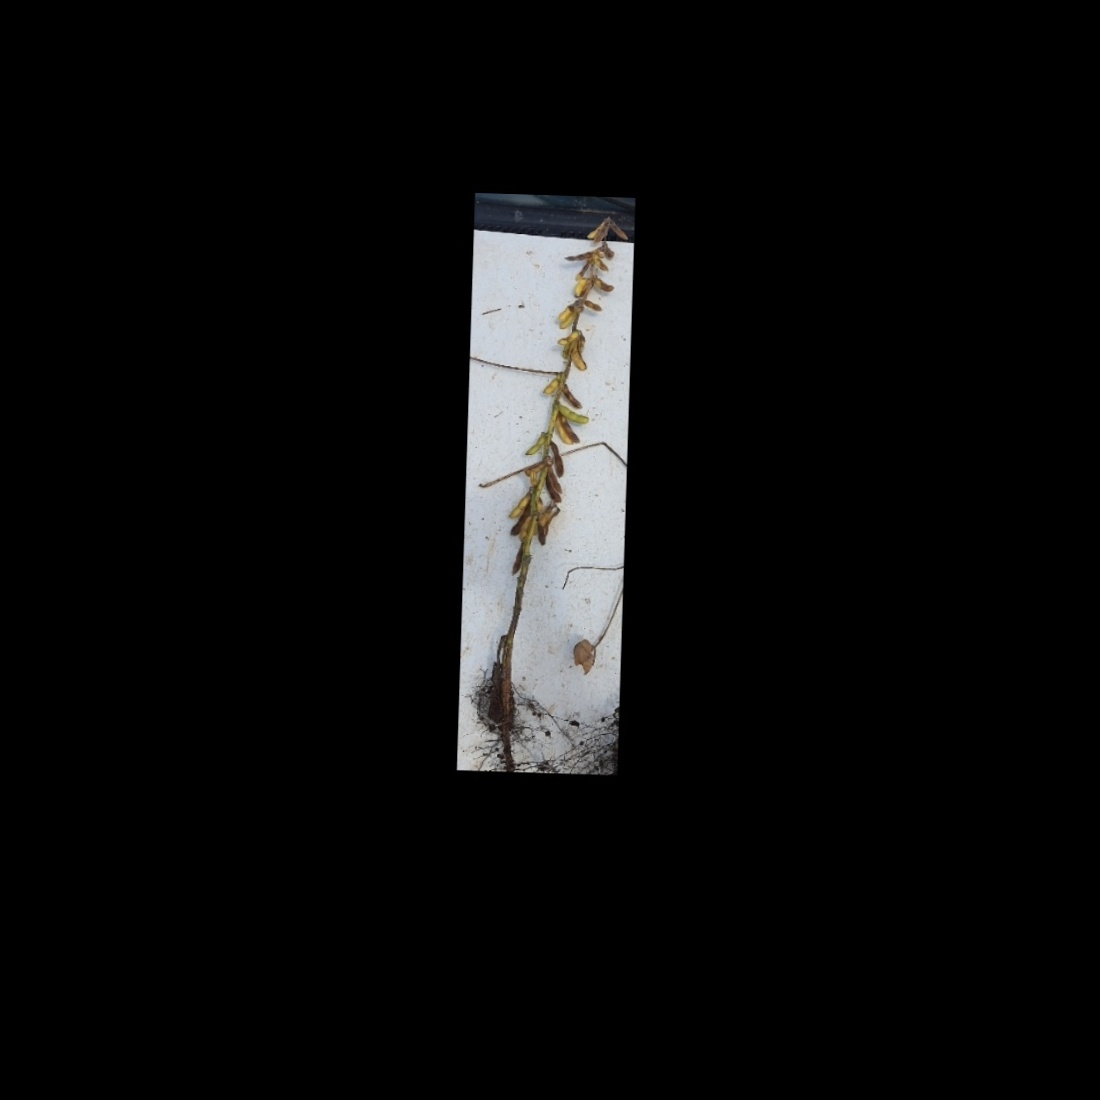pod: (520, 426, 549, 459), (547, 440, 569, 480), (504, 490, 530, 521), (558, 401, 591, 425), (561, 381, 584, 409), (508, 542, 525, 577), (608, 216, 631, 242), (540, 371, 561, 397), (563, 247, 596, 263), (572, 261, 593, 283), (592, 275, 616, 294), (581, 298, 605, 314)
soy: (461, 207, 631, 752)
